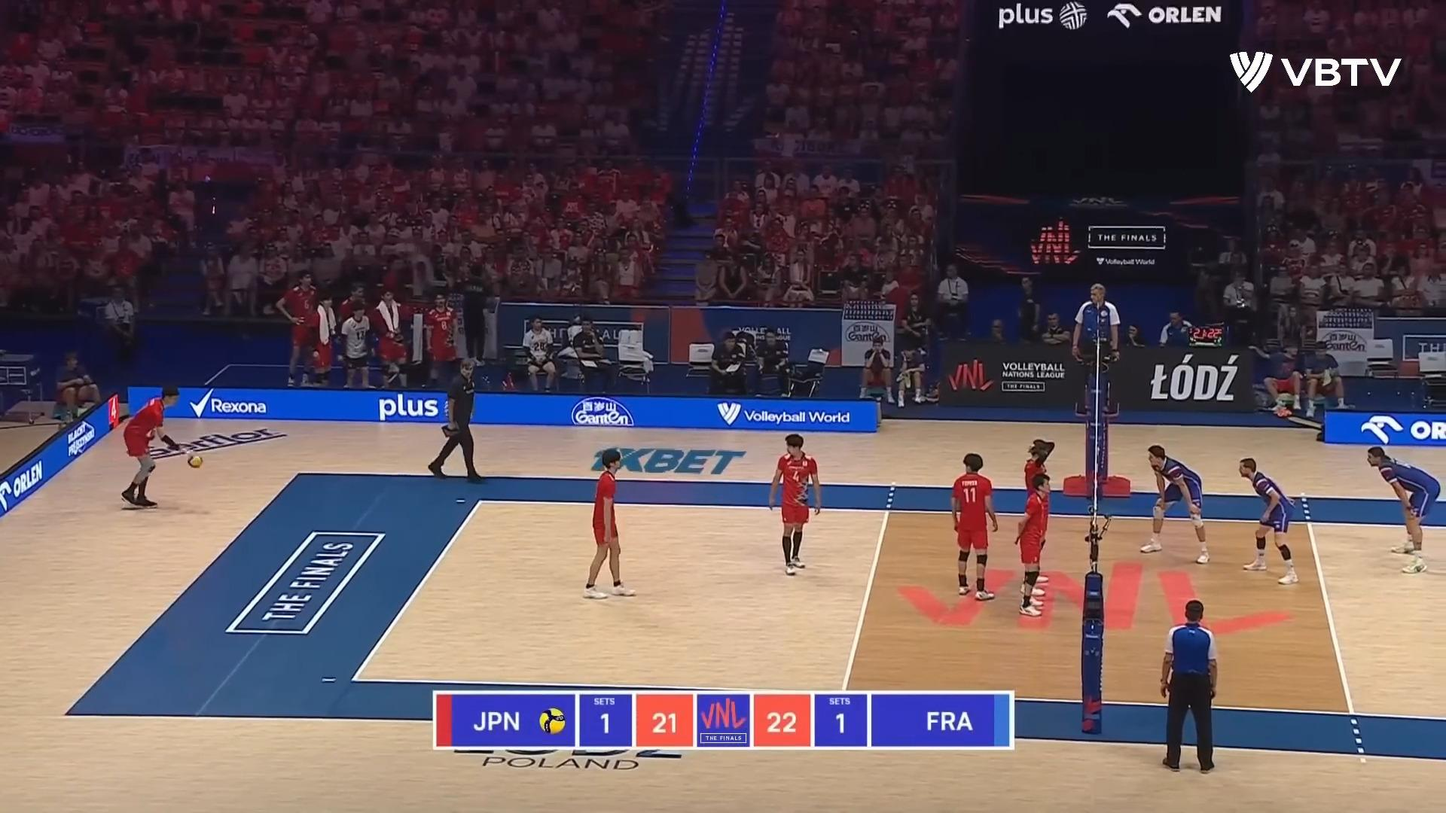ball: (189, 455, 203, 468)
